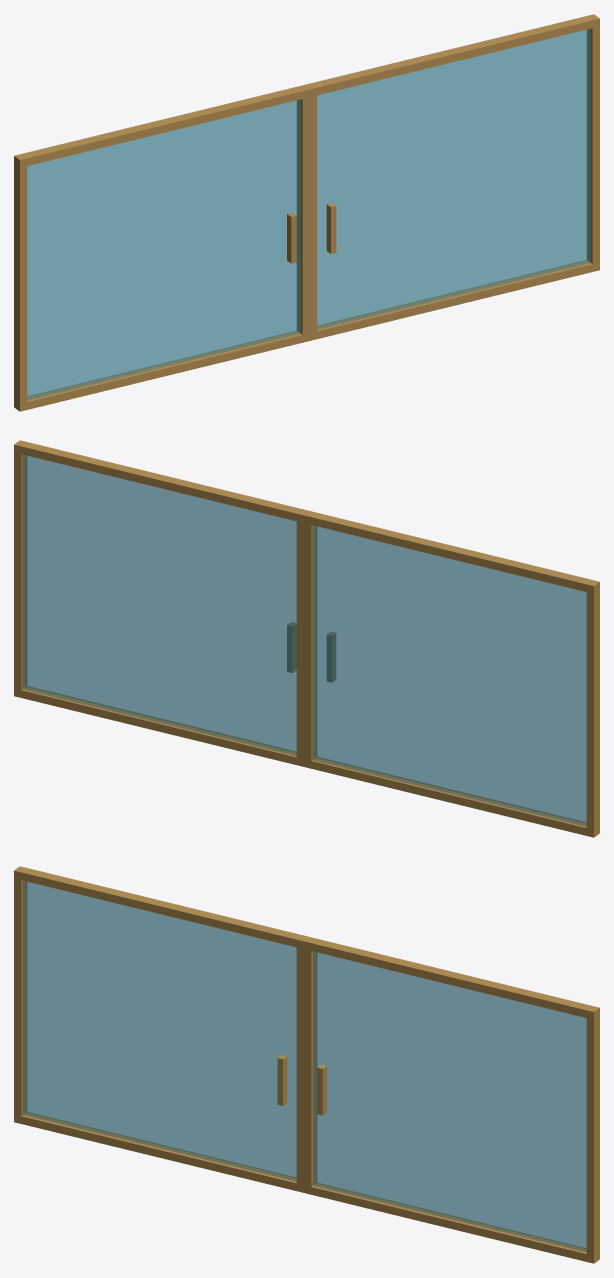
The model's file is Door.glb.
The picture shows the model from 3 angles, top to bottom: view 1: azimuth 30°, elevation 25°; view 2: azimuth 150°, elevation 25°; view 3: azimuth 330°, elevation 25°; orthographic projection.
Parts seen in each view (by area): view 1: GW Door Left Glass, GW Door Right Glass, GW Door Left Gold, GW Door Right Gold; view 2: GW Door Left Glass, GW Door Right Glass, GW Door Left Gold, GW Door Right Gold; view 3: GW Door Left Glass, GW Door Right Glass, GW Door Right Gold, GW Door Left Gold.
Part boxes in pixels (box(x1,y1,x2,y2)): GW Door Left Glass: box(27, 99, 300, 399); GW Door Right Glass: box(317, 29, 590, 329); GW Door Left Gold: box(14, 85, 309, 411); GW Door Right Gold: box(304, 14, 599, 340); GW Door Left Glass: box(313, 525, 586, 826); GW Door Right Glass: box(23, 455, 296, 755); GW Door Left Gold: box(304, 511, 599, 837); GW Door Right Gold: box(14, 440, 309, 766); GW Door Left Glass: box(23, 881, 296, 1181); GW Door Right Glass: box(313, 951, 586, 1251); GW Door Right Gold: box(304, 937, 599, 1263); GW Door Left Gold: box(14, 866, 309, 1192).
Size of the model in its own units: 23.4 by 9.7 by 0.69.
